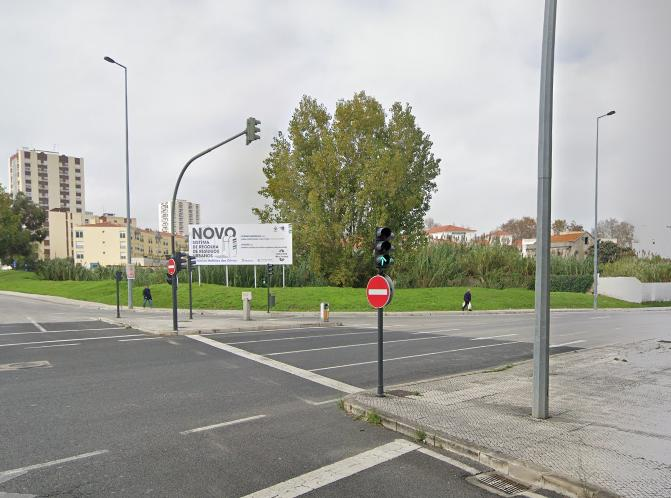green_light: (375, 227, 391, 268)
